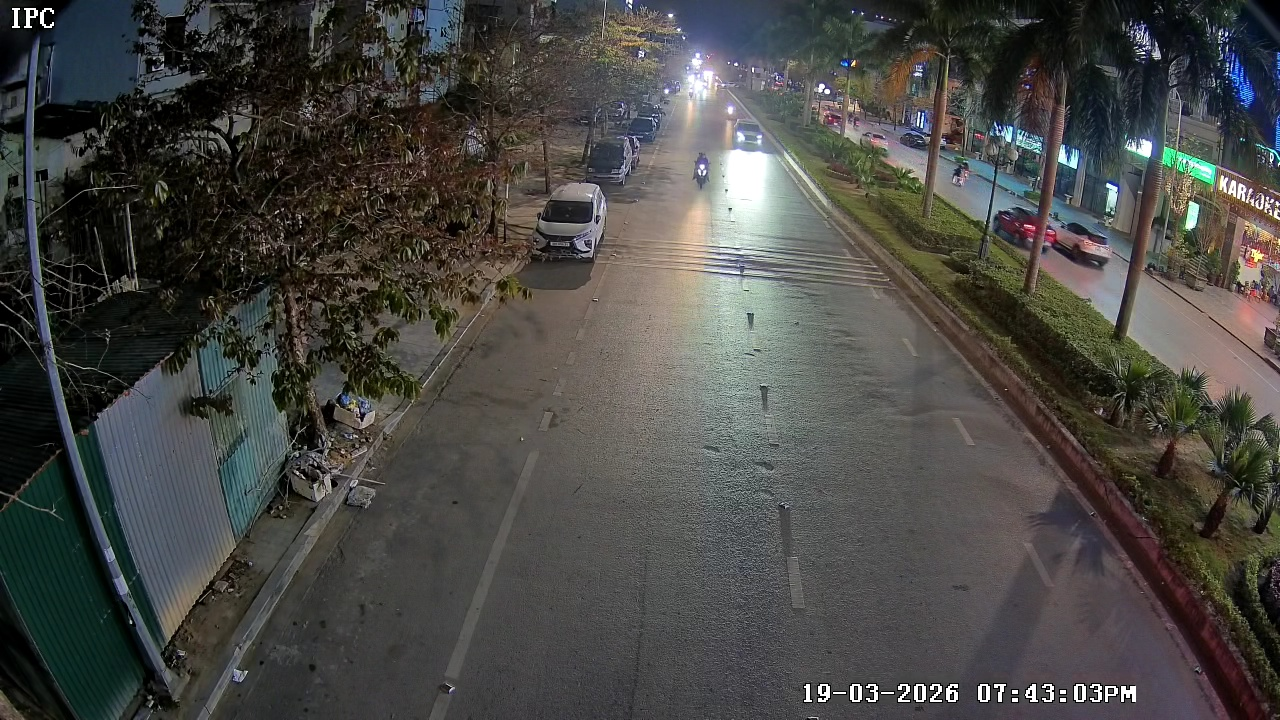car: (530, 180, 609, 263), (584, 132, 641, 187), (732, 116, 764, 150), (628, 111, 657, 141)
motorbike: (692, 150, 711, 190)
